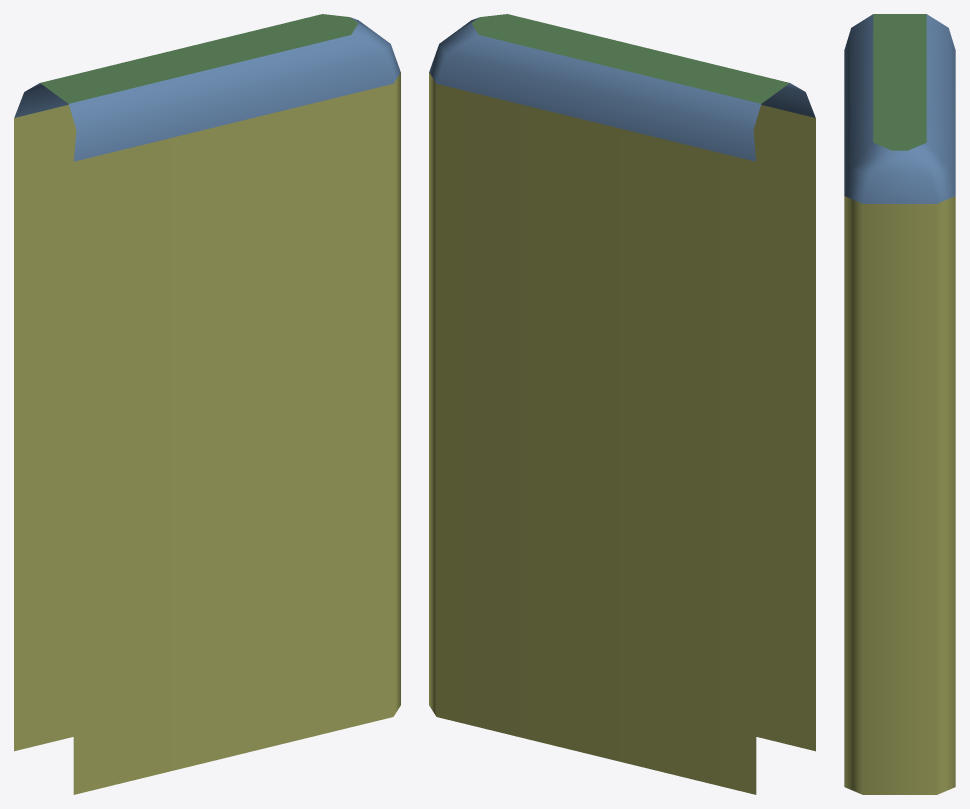
File: Mini_Plat6.fbx
The picture shows the model from 3 angles, left to right: view 1: azimuth 30°, elevation 25°; view 2: azimuth 150°, elevation 25°; view 3: azimuth 270°, elevation 25°; orthographic projection. The views are drawn at different scales.
Visible parts, largest first — view 1: Mini_Plat2, Wall3, Ground3; view 2: Mini_Plat2, Wall3, Ground3; view 3: Mini_Plat2, Wall3, Ground3.
Boxes of the visible parts, x1=… form: Mini_Plat2: x1=14, y1=72, x2=400, y2=794; Wall3: x1=14, y1=17, x2=400, y2=161; Ground3: x1=40, y1=14, x2=358, y2=103; Mini_Plat2: x1=429, y1=72, x2=815, y2=794; Wall3: x1=429, y1=17, x2=815, y2=161; Ground3: x1=471, y1=14, x2=789, y2=103; Mini_Plat2: x1=844, y1=196, x2=955, y2=794; Wall3: x1=844, y1=14, x2=955, y2=203; Ground3: x1=873, y1=14, x2=926, y2=150.
Bounding box in the file's own units: 6901 × 13248 × 2115.
